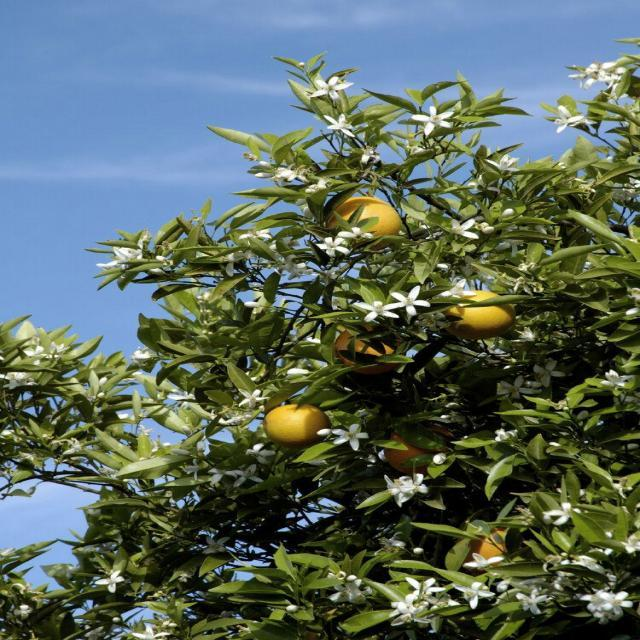Bunga: (570, 62, 625, 88), (410, 106, 455, 136), (309, 76, 355, 104), (388, 286, 430, 316), (451, 582, 496, 610), (550, 106, 598, 132), (495, 376, 543, 399), (388, 602, 434, 626), (354, 300, 405, 321), (332, 424, 370, 451), (575, 590, 617, 614), (516, 590, 554, 616), (322, 114, 358, 140), (569, 552, 608, 576), (544, 502, 582, 526), (382, 475, 408, 509), (228, 464, 266, 487), (534, 360, 566, 387), (435, 278, 478, 298), (398, 474, 429, 501), (600, 590, 632, 616), (484, 154, 522, 174), (466, 174, 504, 194), (314, 236, 352, 256), (236, 388, 270, 410), (94, 570, 125, 594), (464, 552, 505, 570), (611, 175, 640, 200), (276, 164, 312, 184), (406, 576, 446, 594), (244, 444, 276, 466), (602, 369, 634, 391), (278, 254, 304, 281), (376, 532, 407, 554), (219, 252, 247, 276), (450, 217, 480, 239), (511, 276, 544, 296), (422, 591, 462, 607), (1, 372, 38, 389), (584, 59, 622, 75), (346, 580, 370, 605), (133, 624, 170, 640), (208, 466, 236, 487), (336, 226, 376, 240), (221, 408, 255, 424), (204, 536, 232, 555), (356, 144, 382, 164), (237, 227, 274, 241), (405, 594, 430, 614), (331, 572, 346, 604), (115, 244, 144, 260), (12, 581, 44, 595), (180, 458, 200, 480), (510, 327, 537, 343), (593, 608, 620, 624), (614, 478, 634, 498), (95, 260, 128, 272), (133, 348, 155, 365), (622, 534, 640, 554), (492, 428, 519, 441), (545, 398, 570, 411), (66, 437, 84, 455), (551, 571, 566, 592), (13, 604, 34, 618), (84, 626, 105, 640), (294, 264, 318, 276), (50, 342, 71, 354), (578, 180, 598, 192), (432, 452, 448, 465), (245, 300, 262, 310), (316, 427, 333, 437), (316, 176, 328, 190), (519, 262, 535, 272), (496, 580, 509, 592), (618, 444, 640, 451), (243, 152, 258, 162), (630, 287, 640, 300), (437, 263, 450, 273), (520, 579, 546, 584), (624, 307, 640, 315), (172, 448, 190, 455), (260, 160, 272, 170), (254, 172, 274, 178), (482, 227, 495, 236), (502, 208, 515, 216), (197, 440, 205, 452), (599, 381, 615, 387), (99, 376, 108, 386), (412, 547, 423, 555), (344, 575, 358, 581), (285, 605, 297, 611), (114, 616, 122, 624), (552, 441, 562, 447), (42, 434, 53, 439), (308, 184, 318, 189), (306, 189, 316, 194), (298, 62, 306, 66), (98, 393, 104, 398), (481, 222, 488, 226)
Jeruk Sudah Matang: (381, 423, 462, 475), (436, 290, 517, 340), (325, 198, 399, 248), (334, 326, 408, 374), (264, 404, 332, 448), (465, 520, 513, 573)
